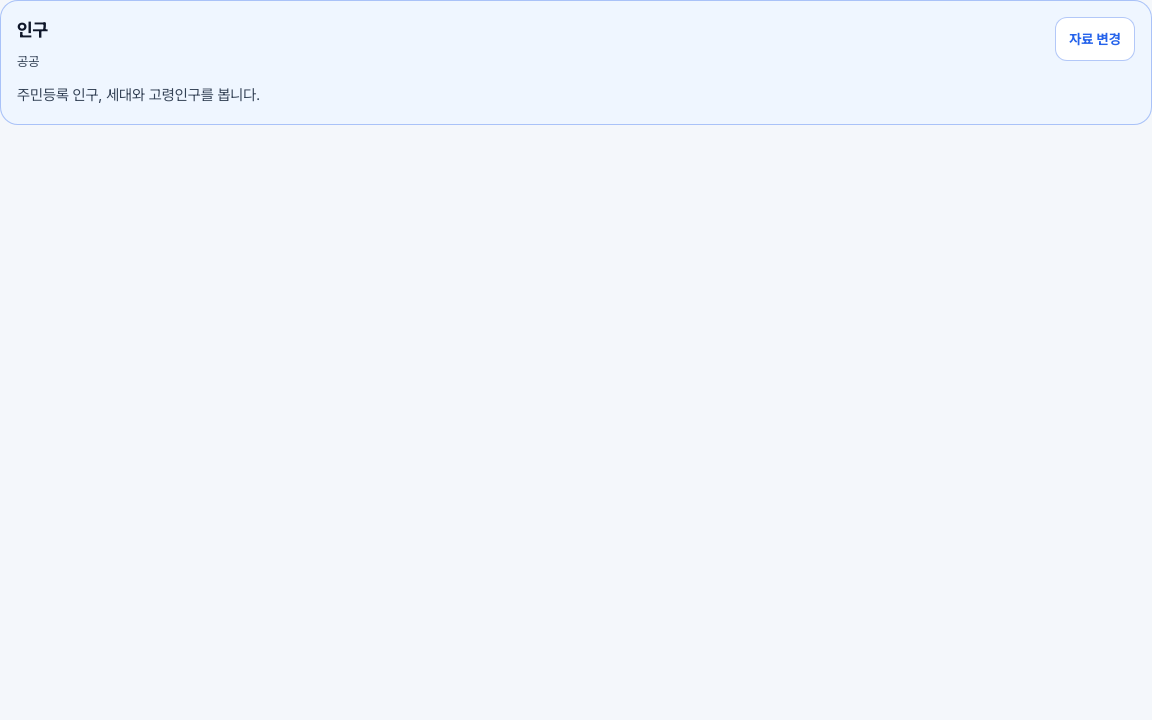
Test: 목적별 자료 선택 › 없는 자료 검색은 0개와 검색어를 알려 준다
This screenshot has width=1152, height=720.
Click the button "자료 변경" at point(1095, 39), box [1055,17,1135,61]
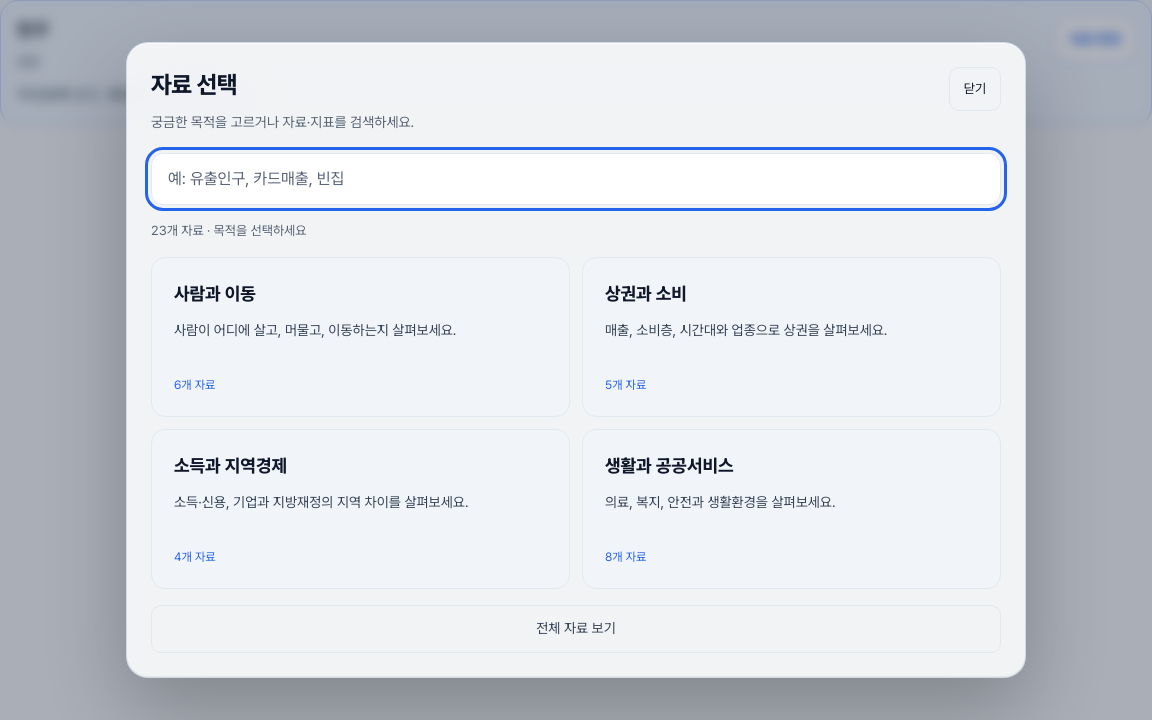
Type "없는자료xyz" into the search field named "자료 검색" at point(576, 179), box [151,153,1001,205]
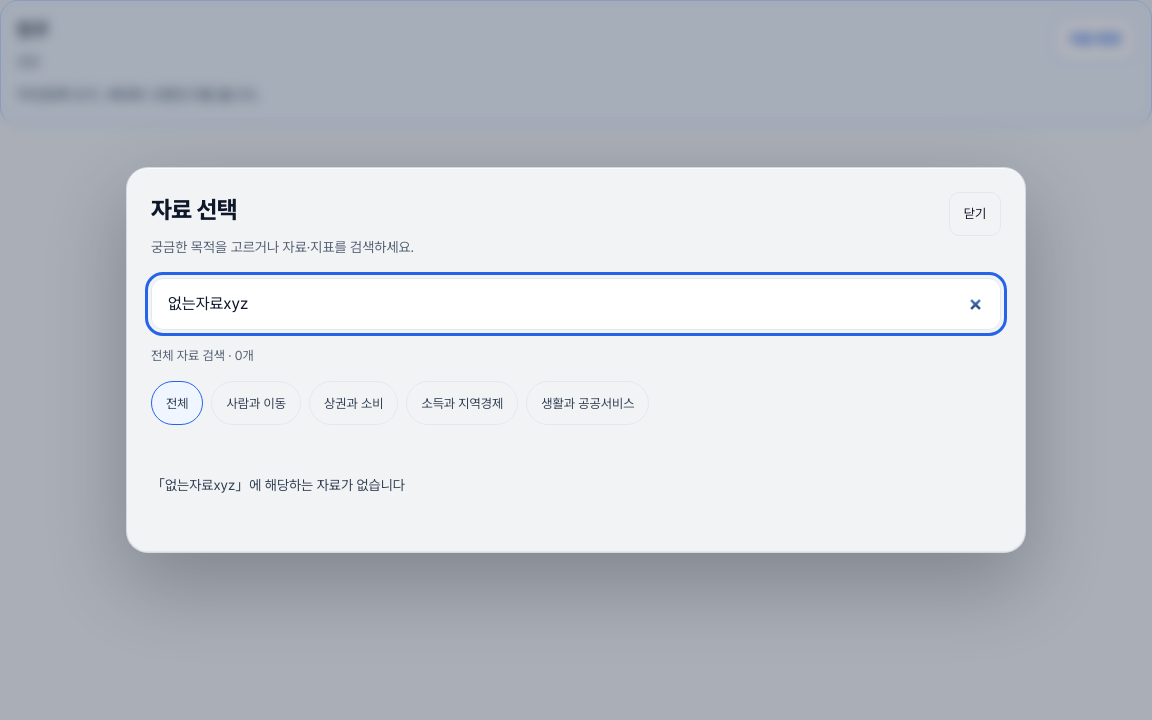
Result: the text with test id "layer-search-empty" reads "「없는자료xyz」에 해당하는 자료가 없습니다" at [151,477,405,493]
Result: the message shows "0개" at [151,348,254,363]
